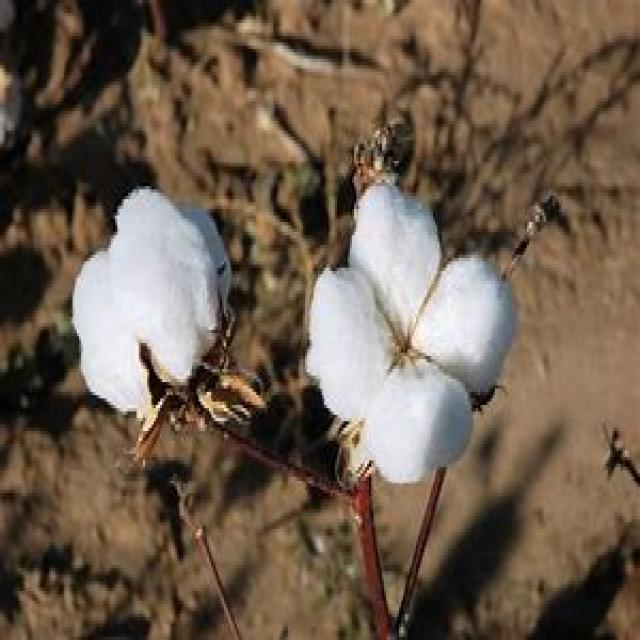Matured Cotton Boll: (304, 167, 519, 494), (69, 188, 239, 432)
